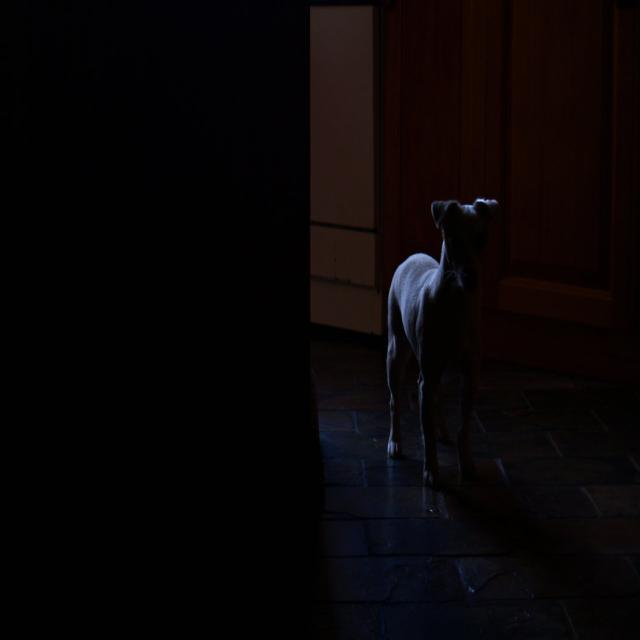dog: (383, 171, 526, 497)
